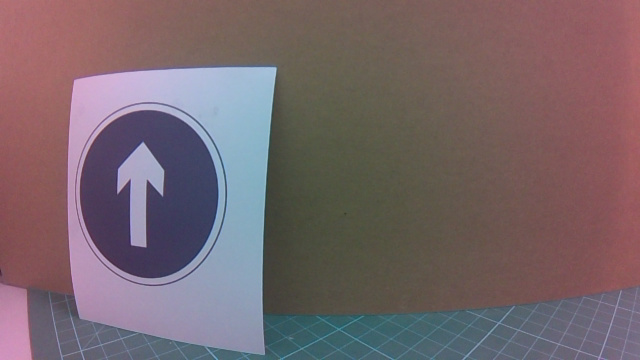forward: (63, 99, 259, 305)
